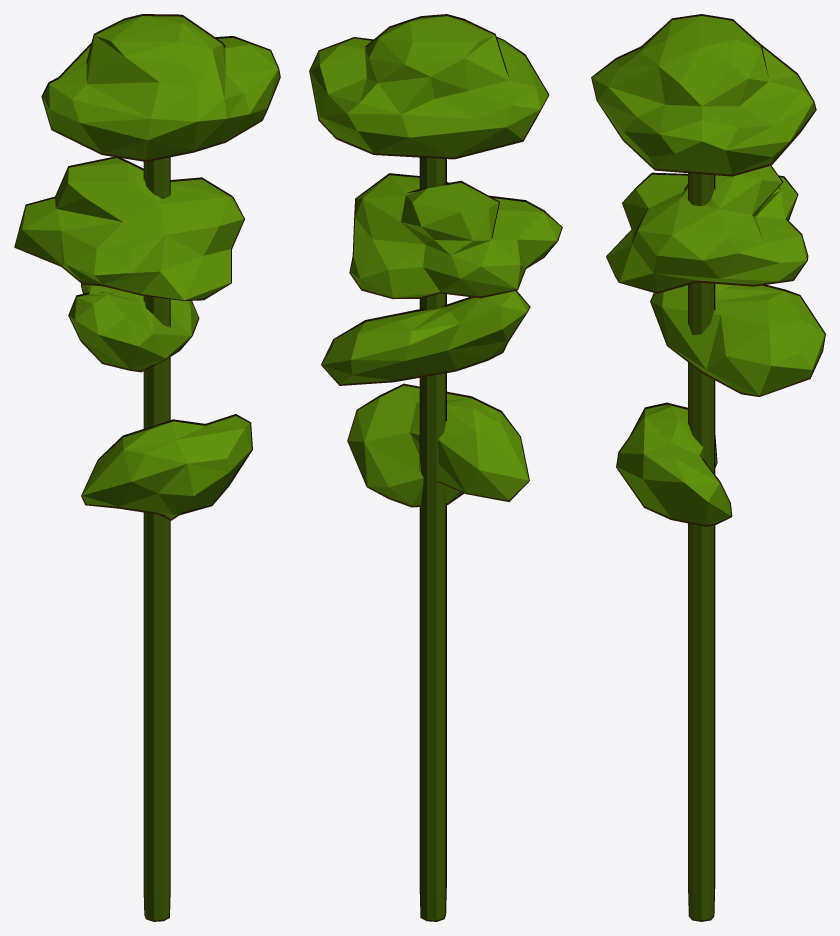
Rendered from Bamboo_(Outlined)v005.fbx.
3 renders of one model, left to right at view 1: azimuth 30°, elevation 25°; view 2: azimuth 150°, elevation 25°; view 3: azimuth 270°, elevation 25°, orthographic.
Visible parts, largest first — view 1: Bamboo; view 2: Bamboo; view 3: Bamboo.
Part boxes in pixels (x1,y1,x2,y2): Bamboo: (14,14,280,921); Bamboo: (309,14,562,921); Bamboo: (591,14,825,921).
Size of the model in its own units: 239 by 893 by 215.
